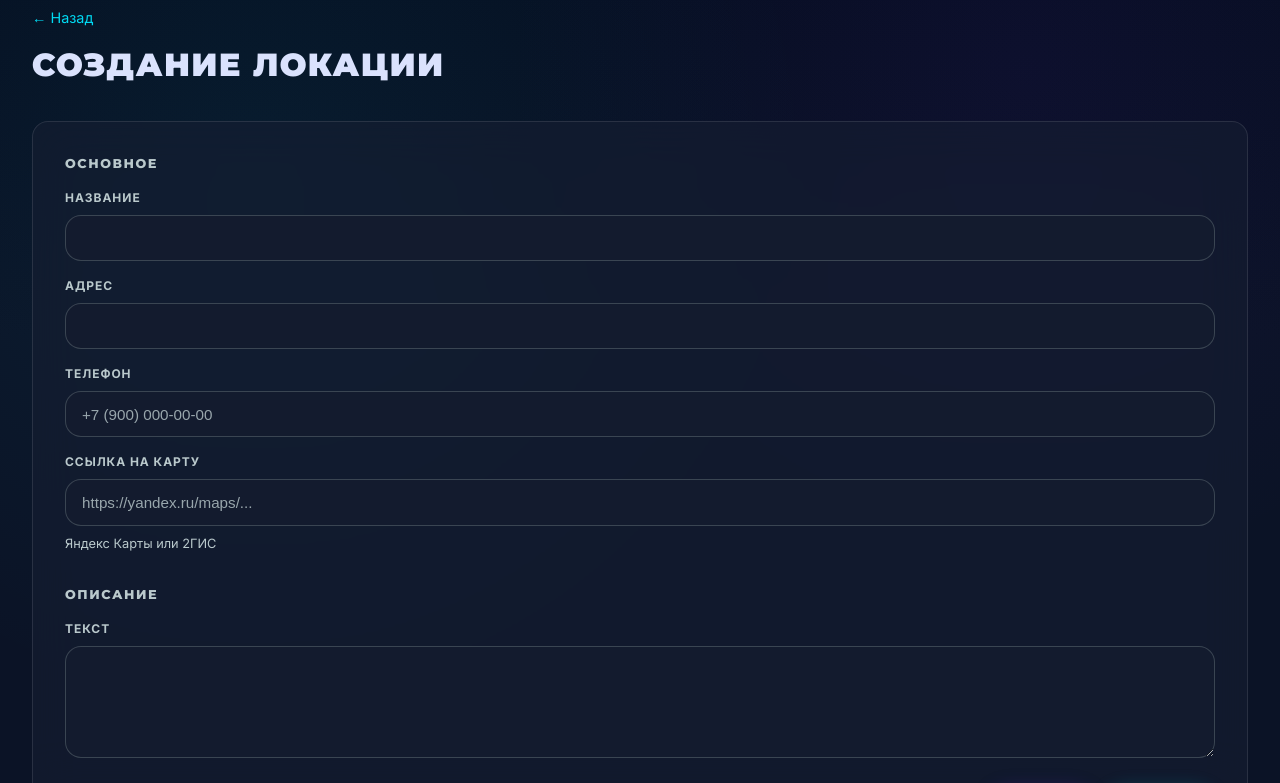
Test: CreateLocationPage › creates location and returns to admin locations tab
This screenshot has width=1280, height=783.
Step 1. Type "Новый зал" into the field labelled "Название" → (640, 238), box [65,215,1215,261]
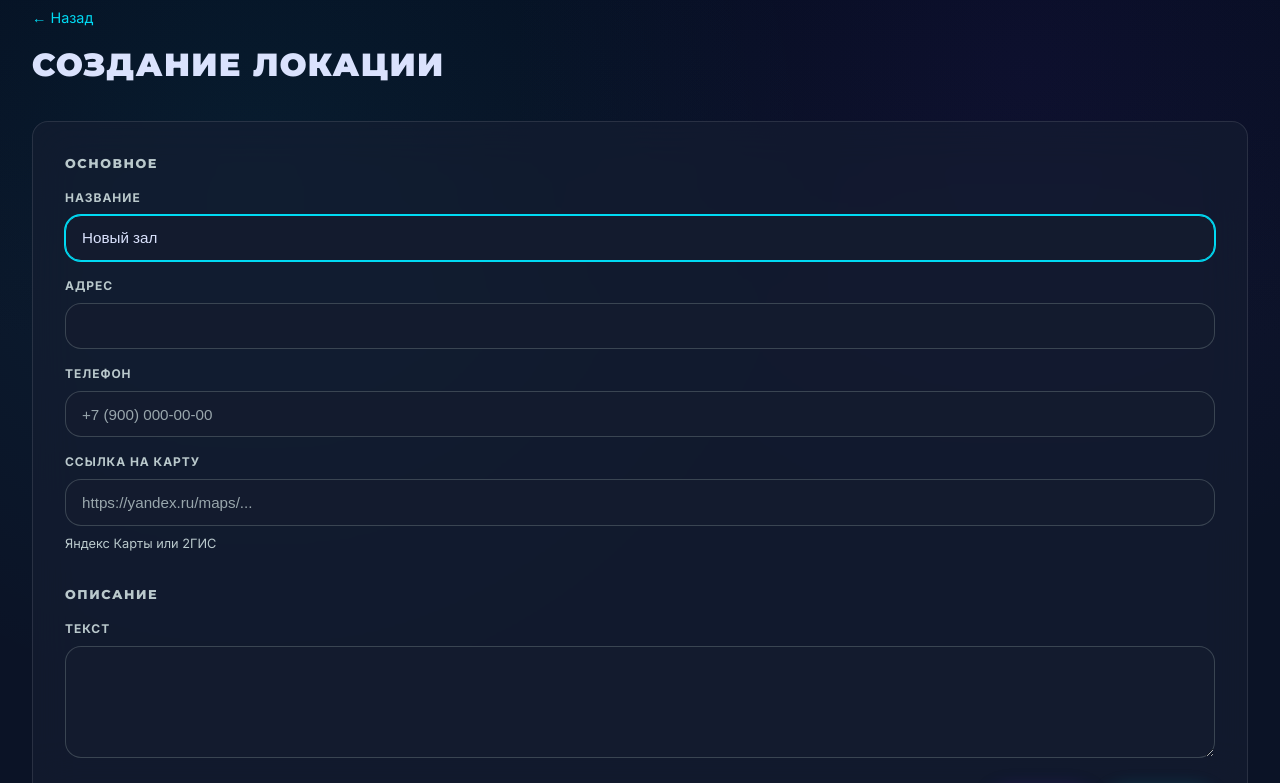
Step 2. Type "ул. Новая, 10" into the field labelled "Адрес" → (640, 326), box [65,303,1215,349]
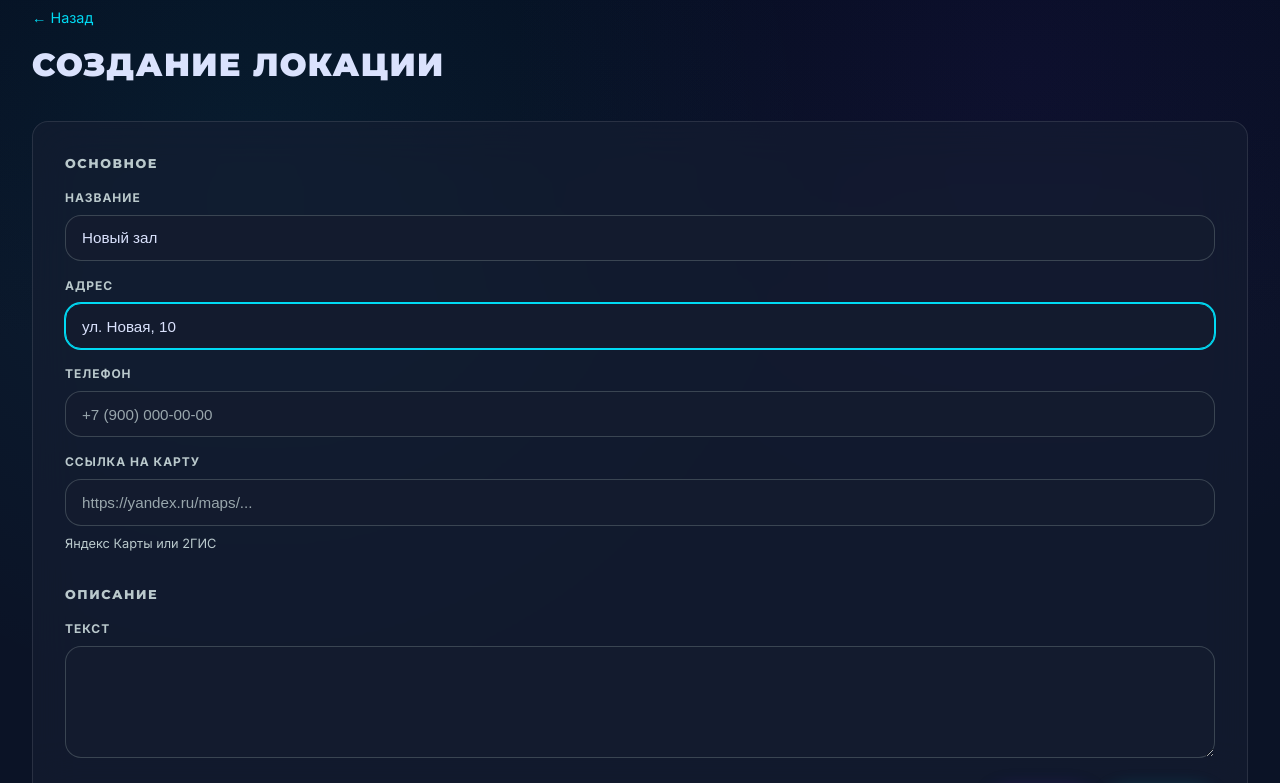
Step 3. Type "Описание нового зала" into the text box labelled "Текст" → (640, 702), box [65,646,1215,758]
(page scrolled)
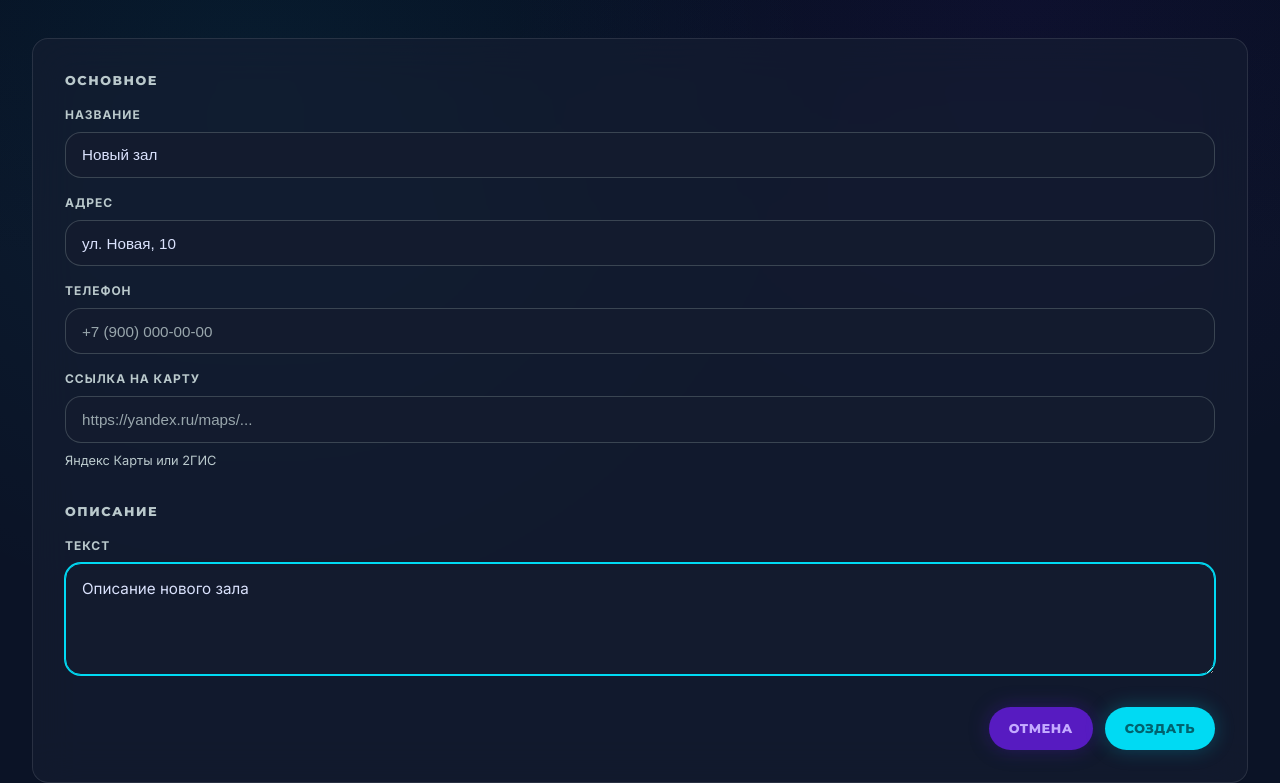
Step 4. Click the button "Создать" → (1160, 728), box [1105,707,1215,750]
(page scrolled)
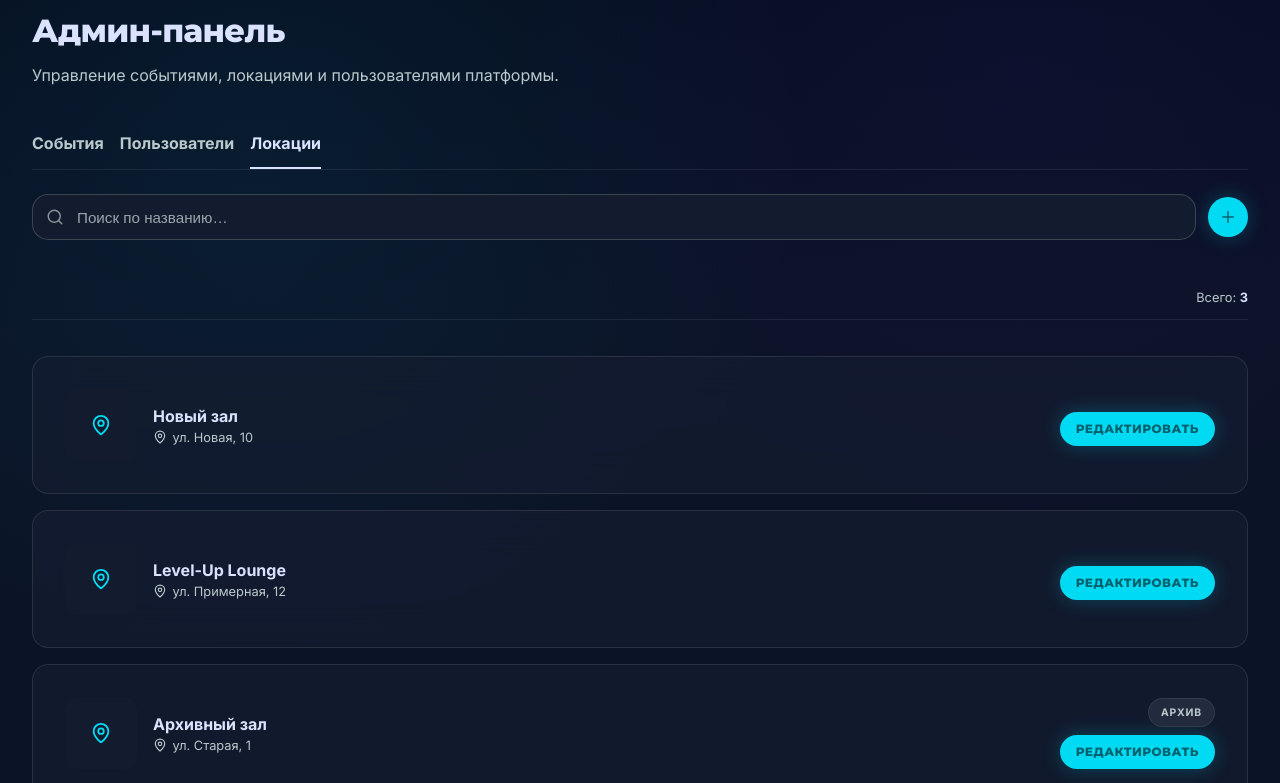
Result: the heading "Админ-панель" is shown at [32,11,285,50]
